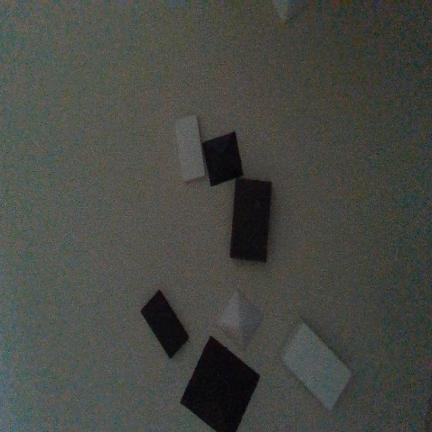Paralelepipedo: (280, 320, 352, 412), (139, 290, 190, 359), (230, 178, 272, 261), (174, 115, 206, 182)
Piramide: (180, 335, 261, 431), (216, 291, 263, 348), (201, 131, 244, 187), (272, 0, 310, 22)
